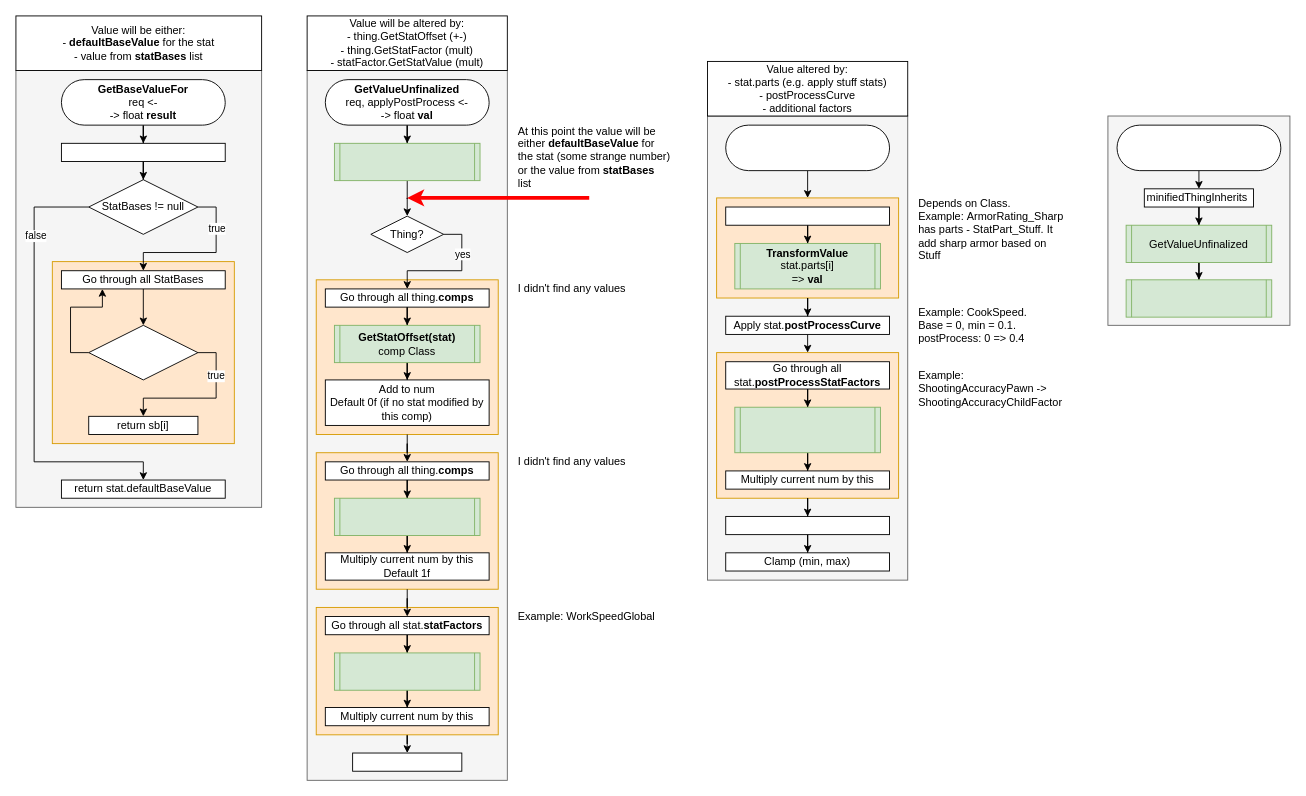
This 1306x796 diagram has some shape labels left out. Each missing label, with the centre of its shape:
Apply scenario factor: the point at 807,525
FinalizeValue: the point at 1198,298
FinalizeValue req, applyPostProcess <- => val: the point at 807,147
GetBaseValueFor -> num: the point at 407,161
GetStatFactor(stat) comp Class: the point at 407,516
GetStatValue: the point at 407,671
GetStatValue thing: the point at 807,429
GetValue (thing) req, applyPostProcess <- -> float val: the point at 1198,147
Go through all stat. parts: the point at 807,215
result = stat.defaultBaseValue: the point at 143,152
return num: the point at 407,761
sb[i] == stat?: the point at 143,352
